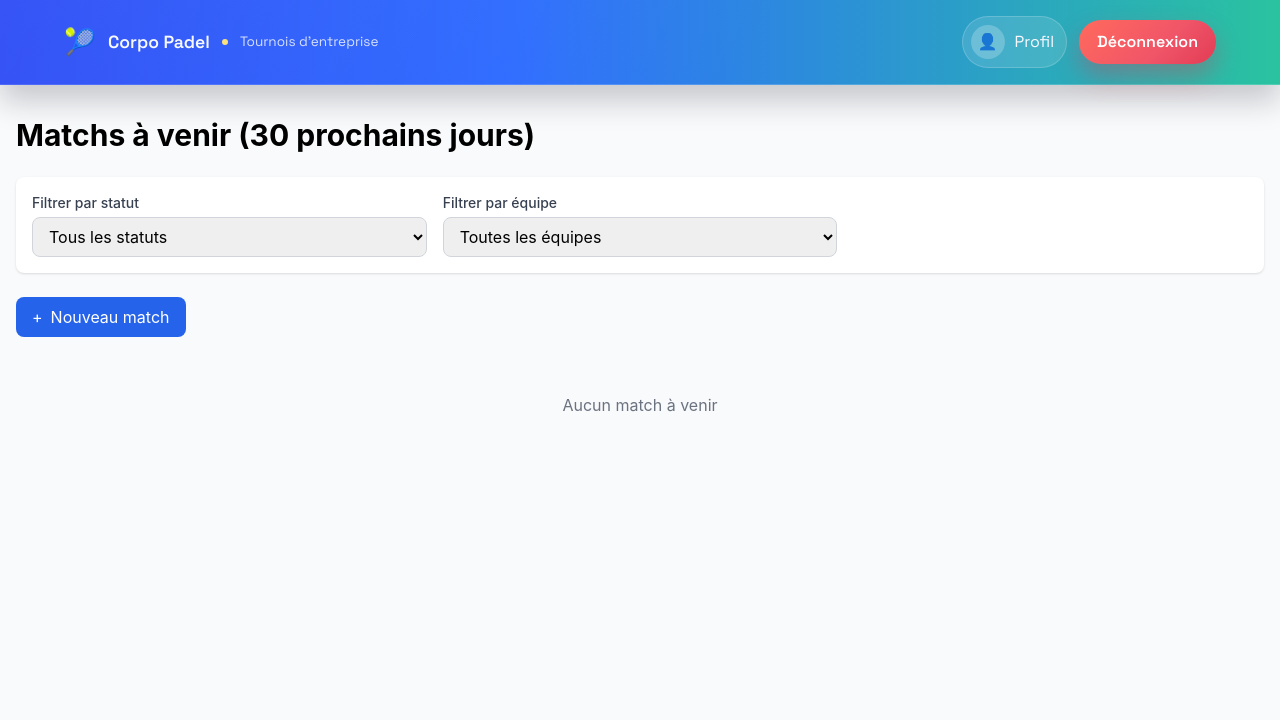
Gestion des matchs › cree un match
This screenshot has width=1280, height=720.
Click the button "+ Nouveau match". click: (101, 317)
box: [16,297,186,337]
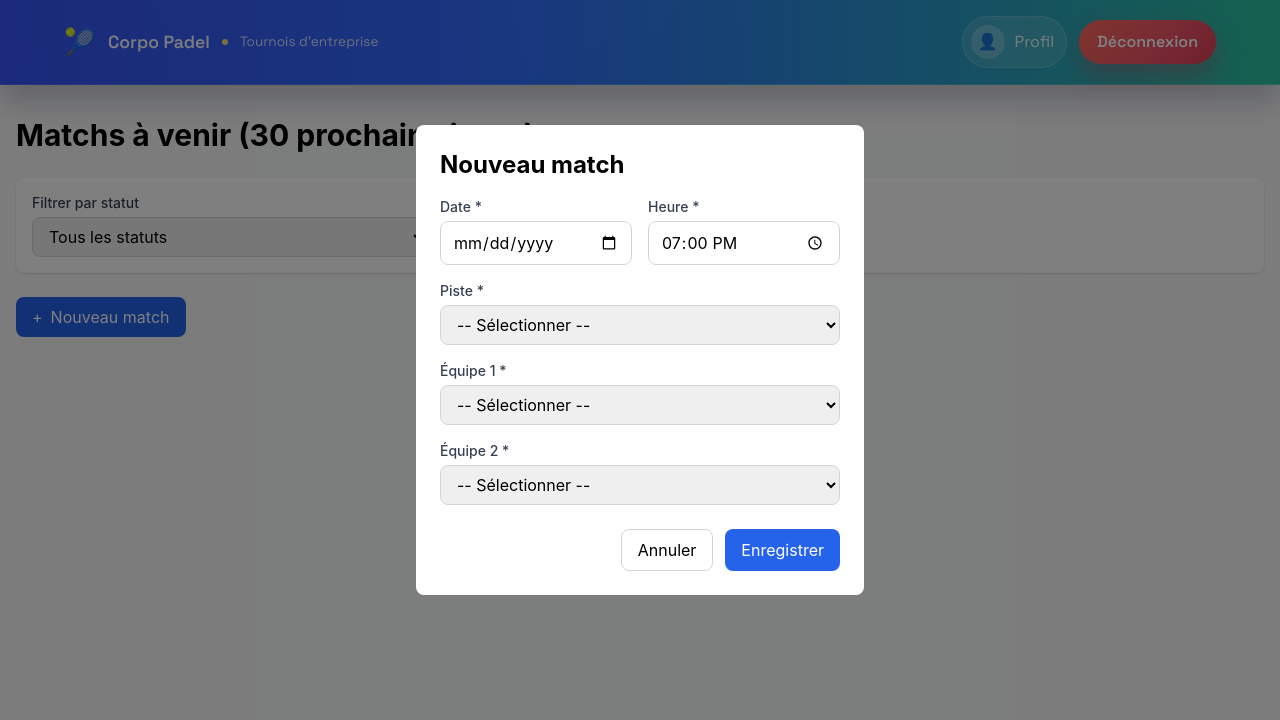
Type "2026-01-31" into the date field. click: (536, 243)
box: [440,221,632,265]
Replace the text in the time field with "09:30". click: (744, 243)
box: [648,221,840,265]
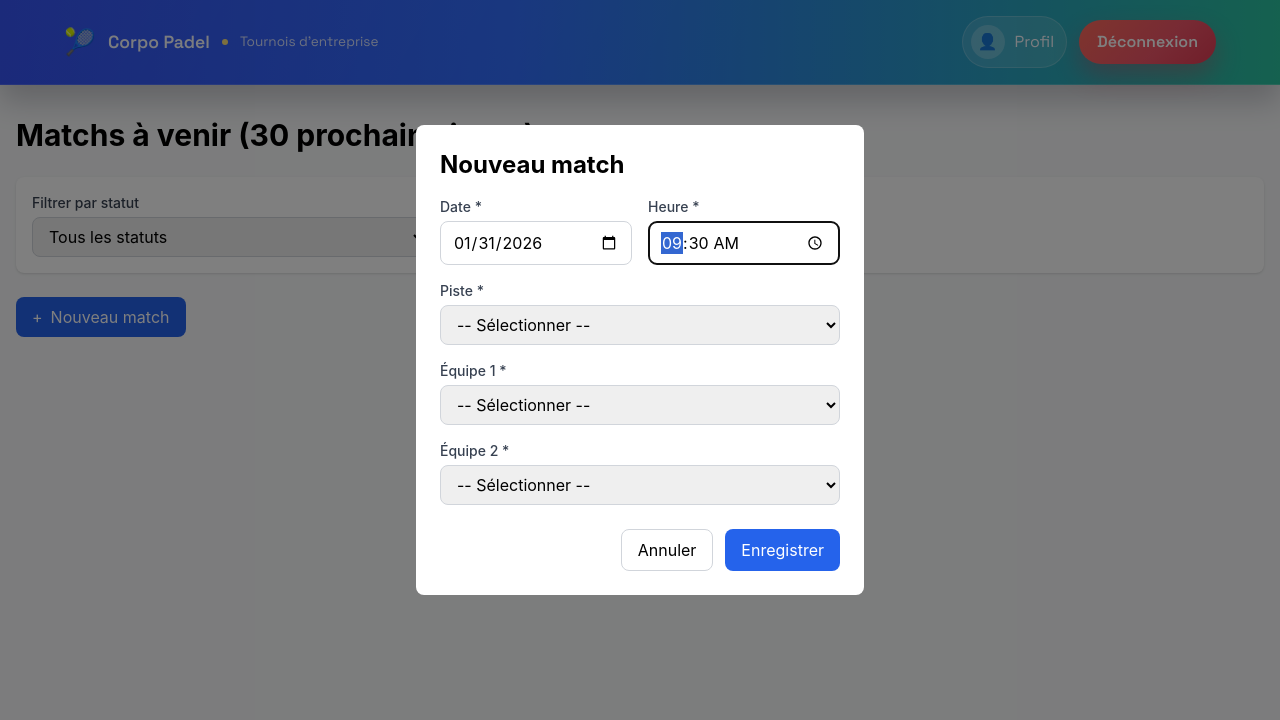
Select "1" in the dropdown below "Piste *". click: (640, 325)
box: [440,305,840,345]
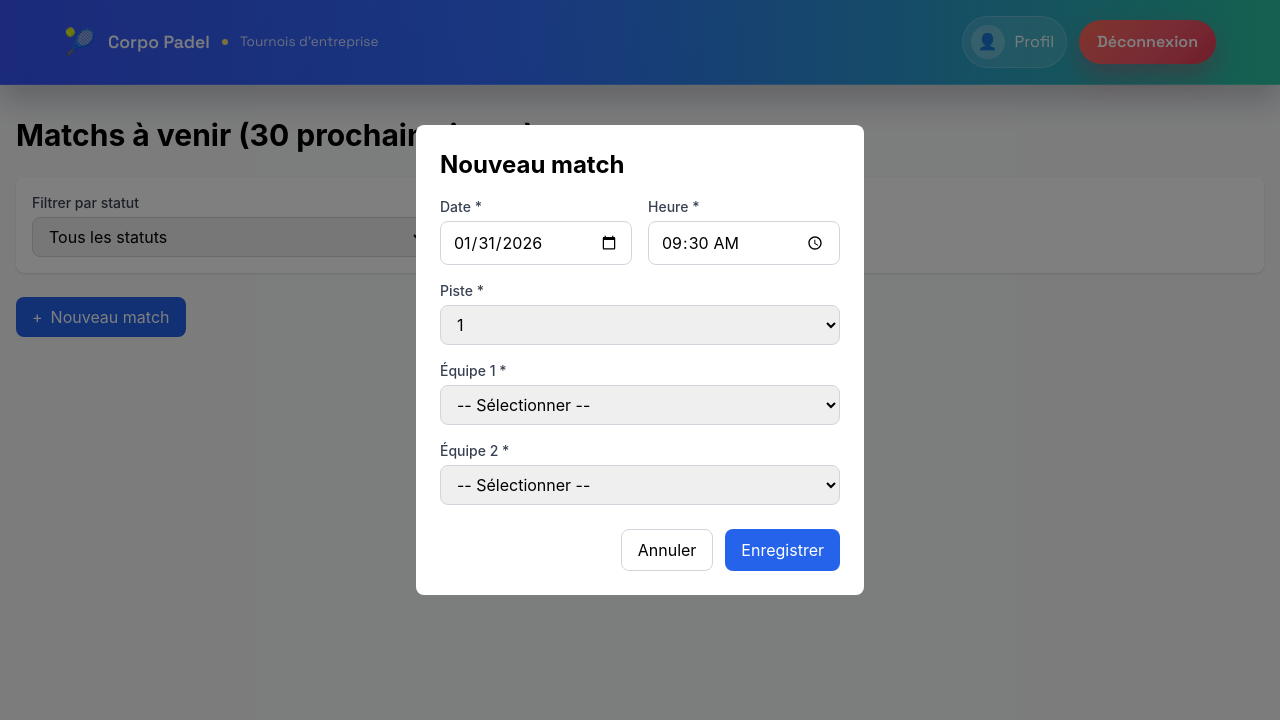
Select "Alpha" in the dropdown below "Équipe 1 *". click: (640, 405)
box: [440,385,840,425]
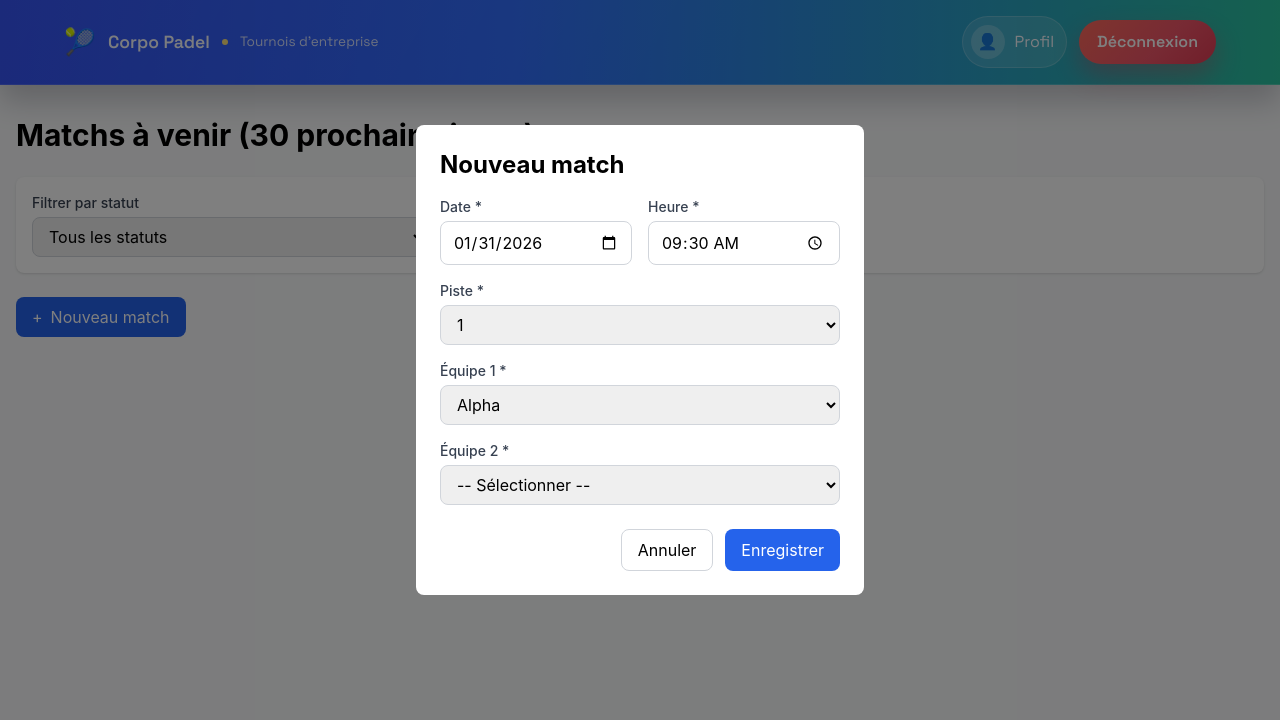
Select "Bravo" in the dropdown below "Équipe 2 *". click: (640, 485)
box: [440,465,840,505]
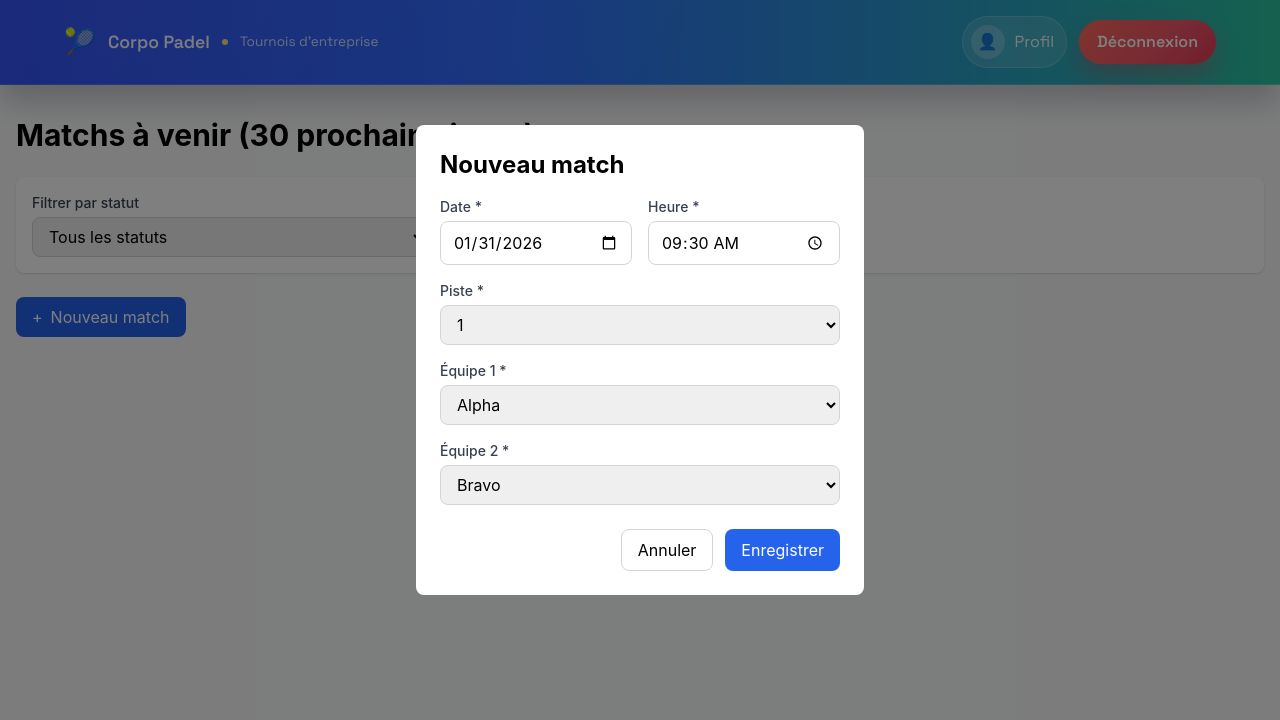
Click the submit button. click: (783, 550)
box: [725,529,840,571]
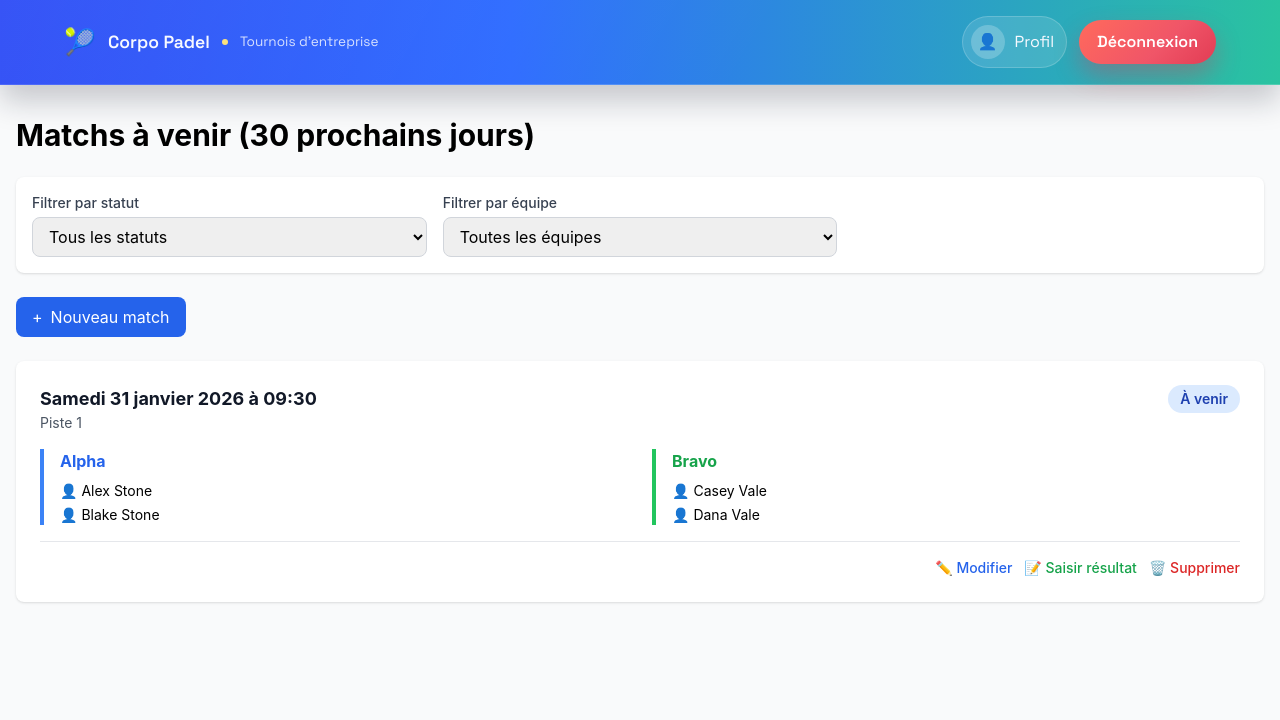
Expected: the text "Piste 1" is shown, [40,414,82,431]
